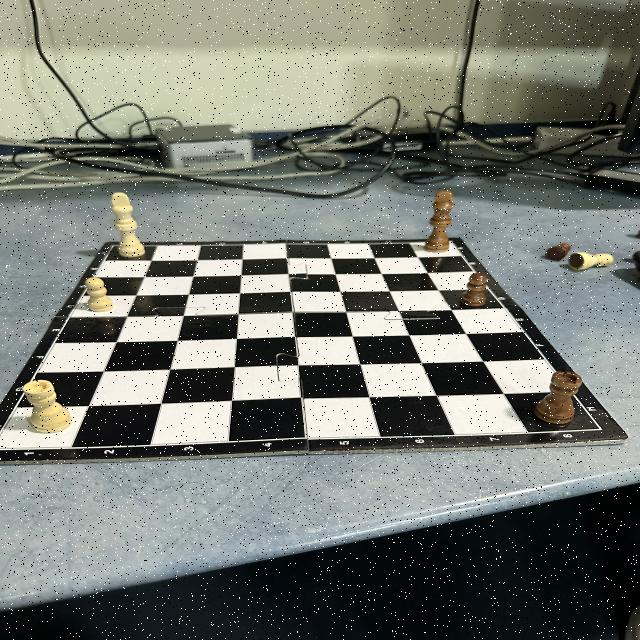Black-King: (424, 190, 456, 252)
Black-Pawn: (461, 272, 488, 306)
Black-Rook: (534, 370, 582, 426)
White-King: (110, 192, 148, 258)
White-Pawn: (84, 276, 115, 312)
White-Rook: (22, 379, 72, 433)
